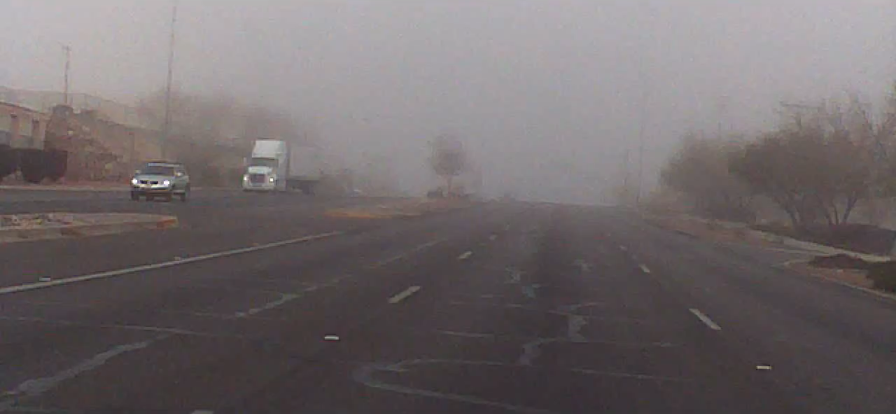bus: (242, 137, 326, 195)
car: (130, 161, 192, 203)
